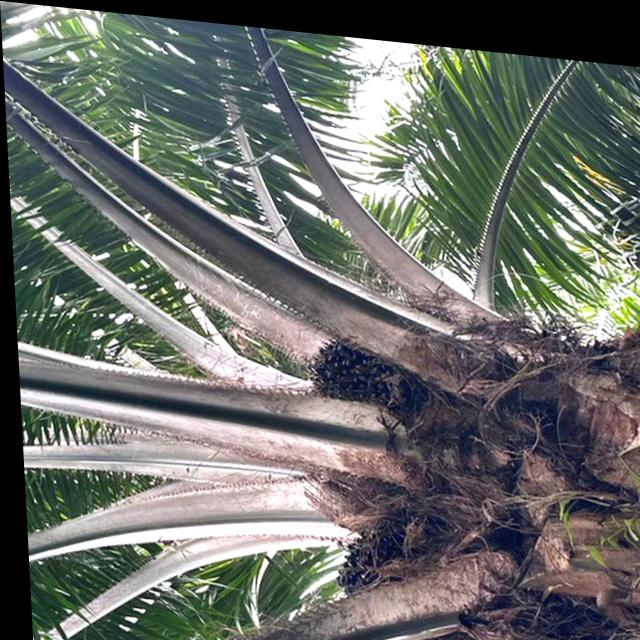unripe: (317, 487, 440, 619), (295, 321, 416, 411)
